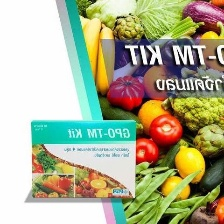book: (29, 116, 140, 201)
